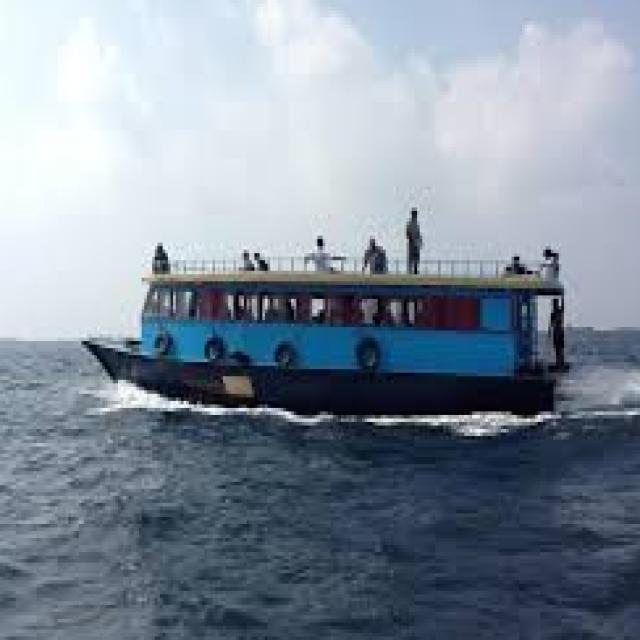fishing boat: (91, 223, 564, 417)
